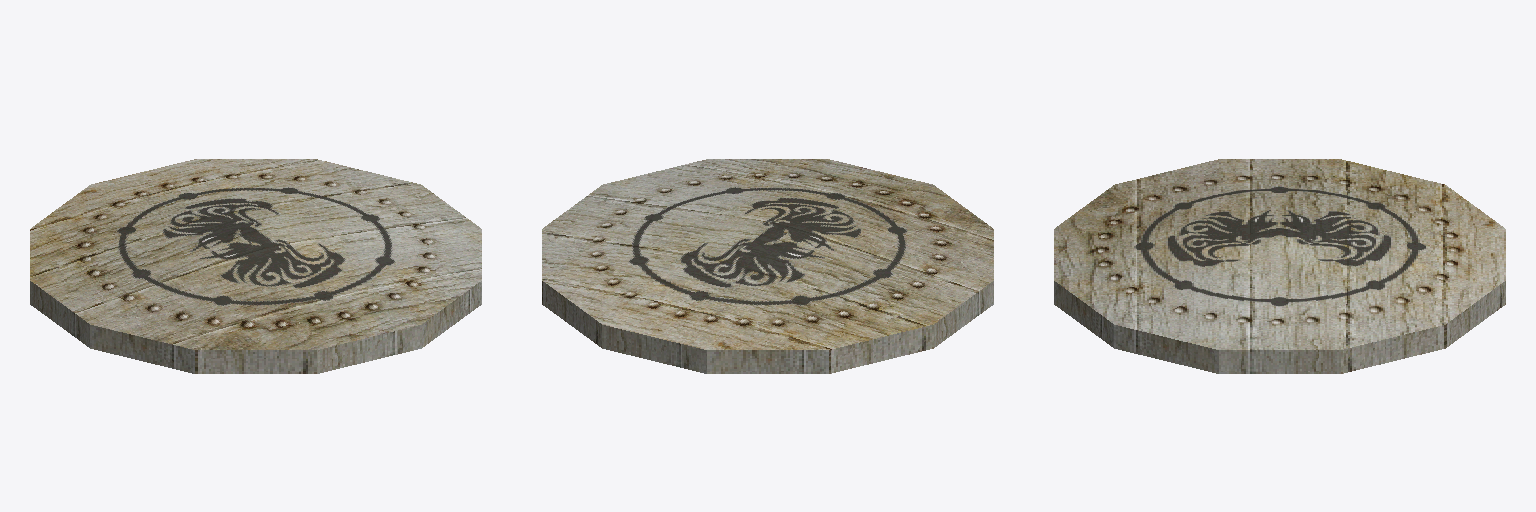
The picture shows the model from 3 angles: view 1: azimuth 30°, elevation 25°; view 2: azimuth 150°, elevation 25°; view 3: azimuth 270°, elevation 25°; orthographic projection.
Visible parts, largest first — view 1: Frame 1; view 2: Frame 1; view 3: Frame 1.
Boxes of the visible parts, x1=… form: Frame 1: x1=30, y1=159, x2=481, y2=373; Frame 1: x1=542, y1=159, x2=993, y2=373; Frame 1: x1=1054, y1=159, x2=1505, y2=373.
Size of the model in its own units: 57.71 by 6.38 by 57.71.
1 materials, 1 textured.